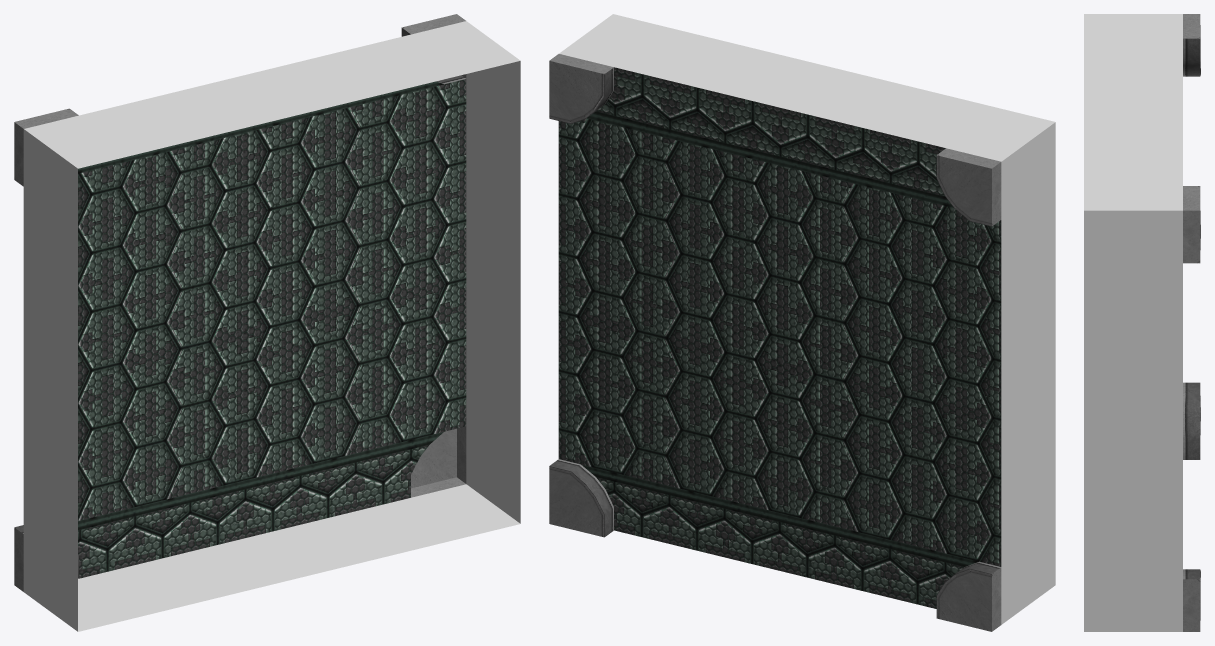
The model's file is OC_road_crossroad.fbx.
3 views of the same model, side by side, from view 1: azimuth 30°, elevation 25°; view 2: azimuth 150°, elevation 25°; view 3: azimuth 270°, elevation 25° (orthographic). The views are drawn at different scales.
Parts seen in each view (by area): view 1: OC_road_crossroad; view 2: OC_road_crossroad; view 3: OC_road_crossroad.
Boxes of the visible parts, <box> form: OC_road_crossroad: <box>14,14,520,631</box>; OC_road_crossroad: <box>549,14,1055,631</box>; OC_road_crossroad: <box>1084,14,1200,631</box>.
Size of the model in its own units: 4 by 4 by 1.
